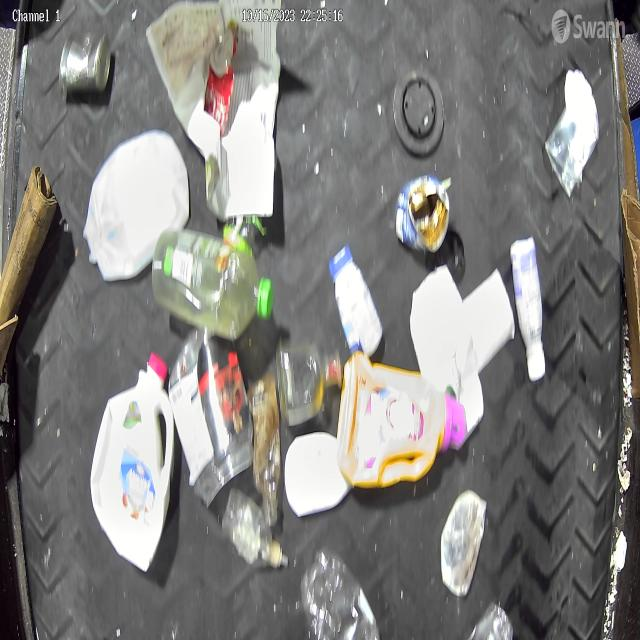can: (395, 174, 450, 253), (59, 31, 111, 97)
milk_jug: (91, 356, 173, 574), (85, 128, 192, 284)
non_white_jug: (337, 352, 467, 486)
plastic_bottle: (155, 231, 273, 343)
